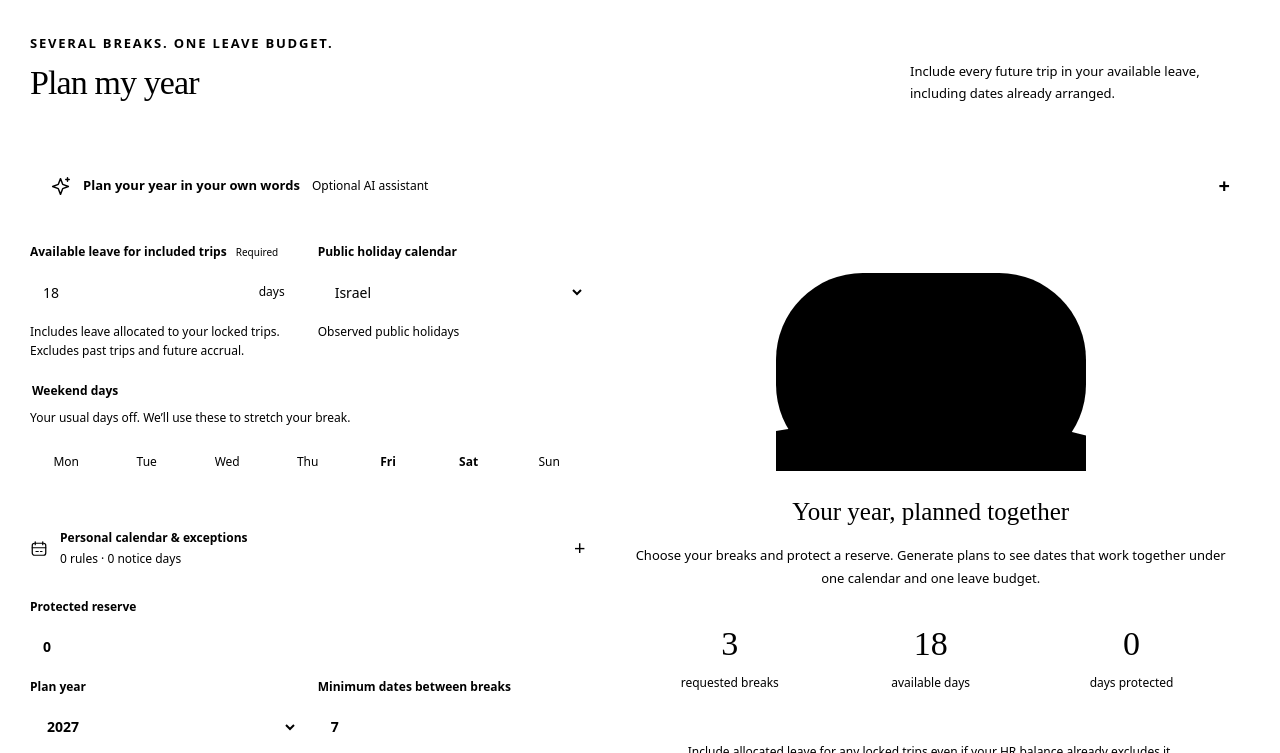
Scenario: typed past dates cannot be kept or converted into a locked trip
Select "2026" in the dropdown labelled "Plan year". click: (164, 727)
box: [30, 704, 298, 750]
(page scrolled)
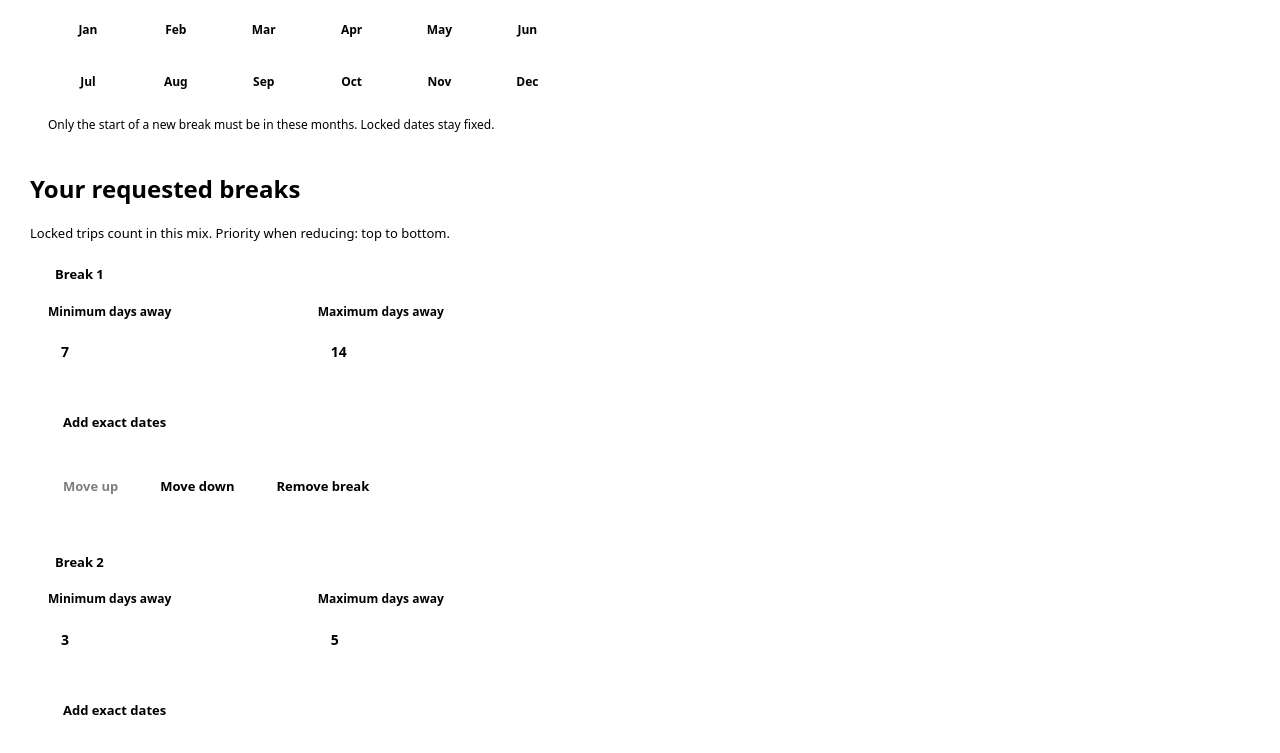
Click the 1st button "Add exact dates". click: (115, 423)
box: [48, 401, 181, 445]
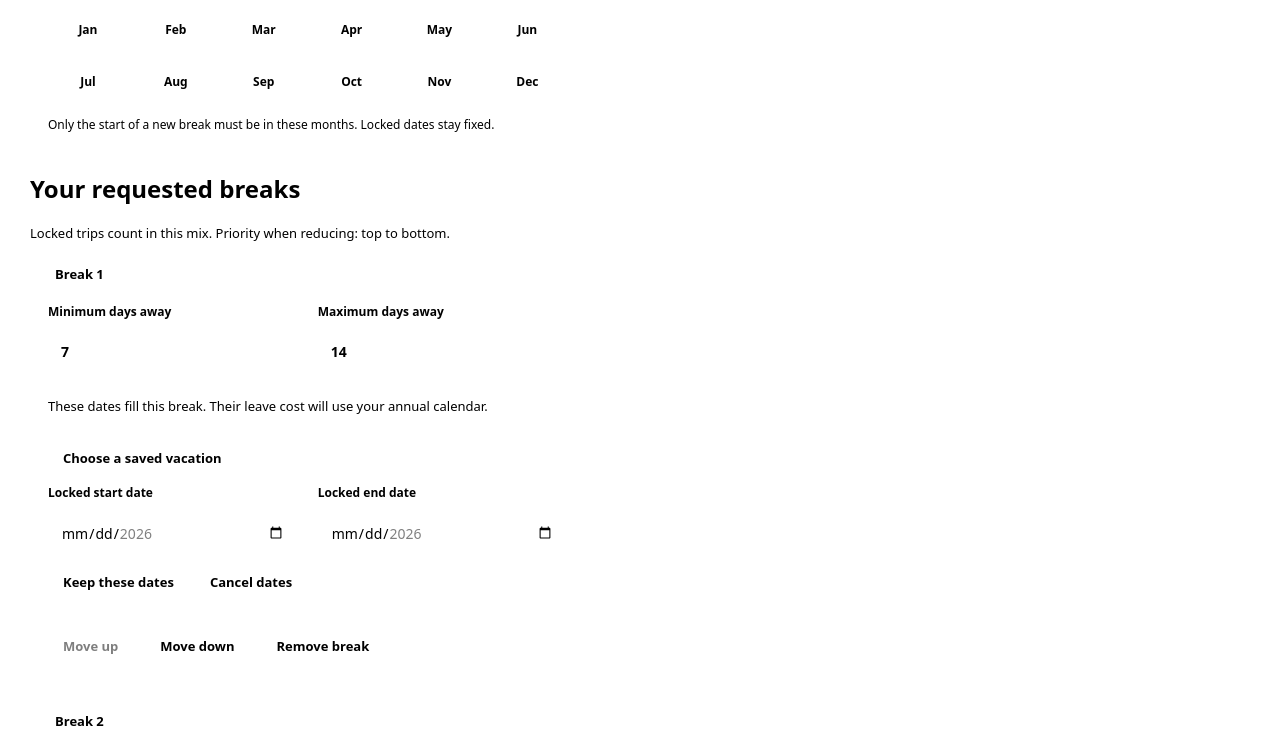
Type "2026-09-26" into the date field labelled "Locked start date". click: (173, 534)
box: [48, 510, 298, 556]
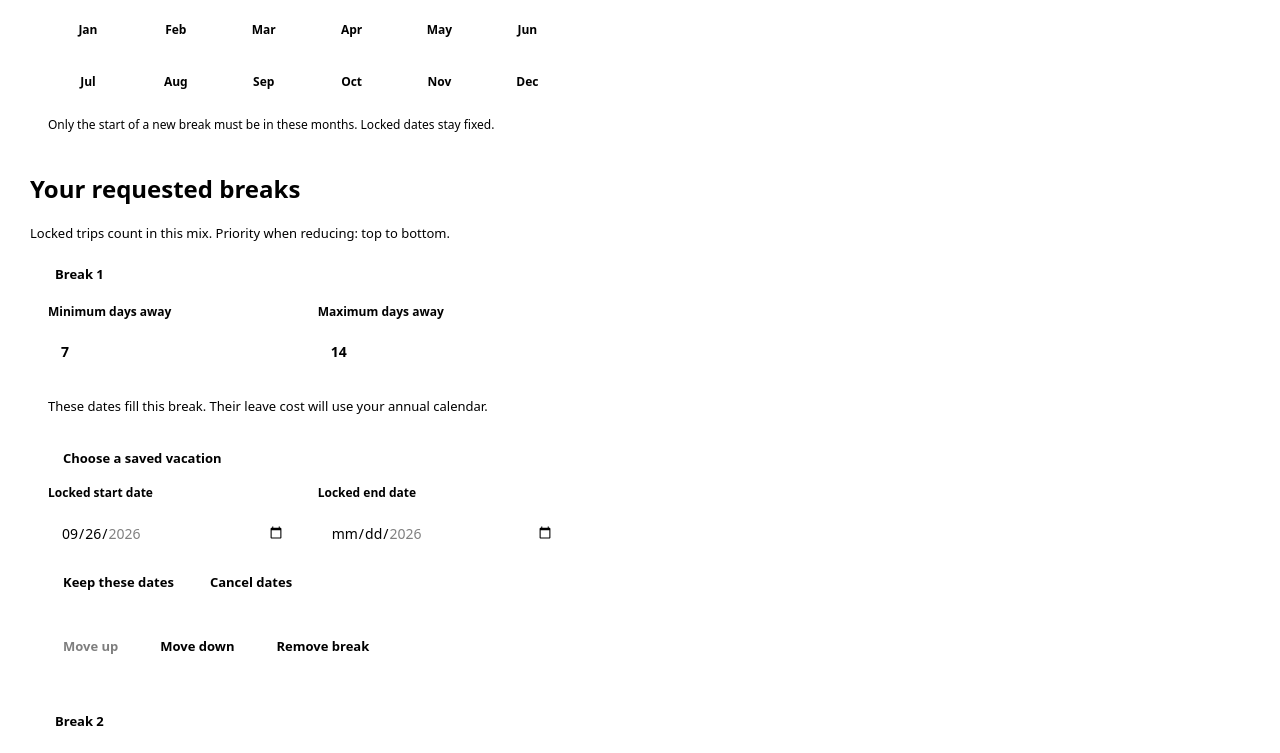
Type "2026-10-03" into the date field labelled "Locked end date". click: (443, 534)
box: [318, 510, 567, 556]
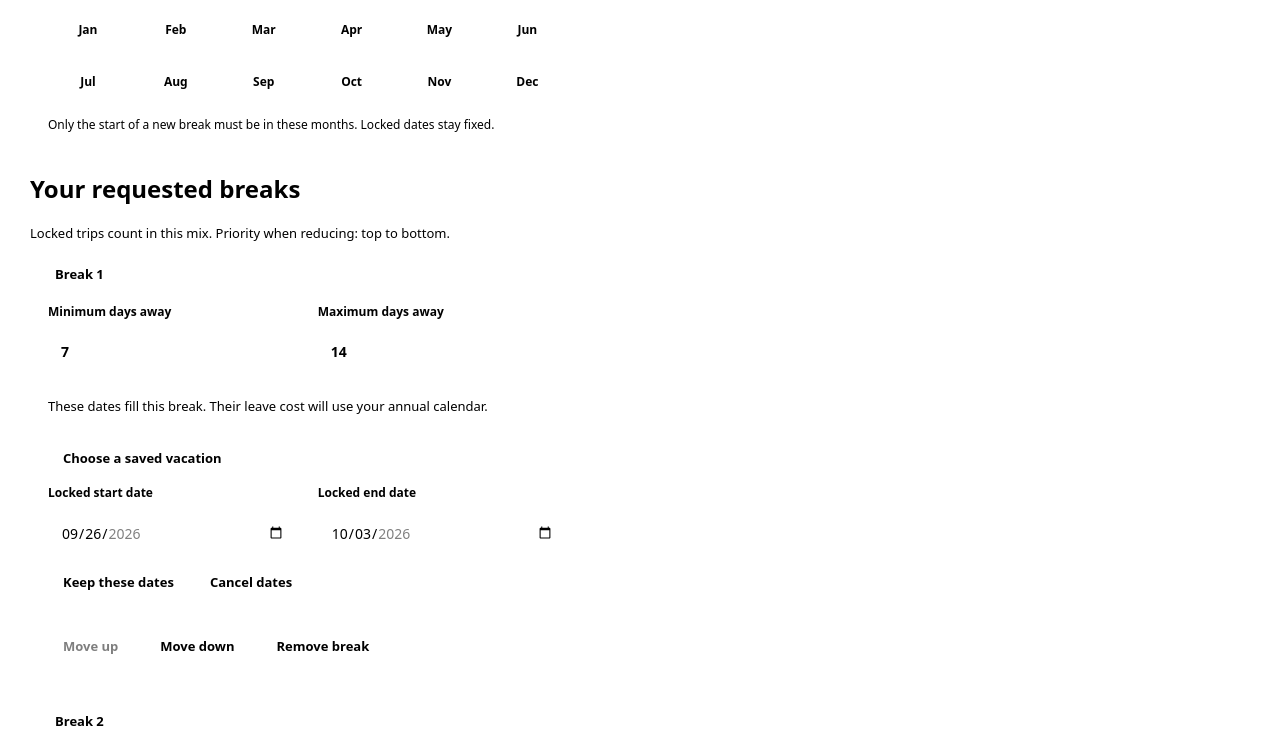
Click the button "Keep these dates". click: (118, 582)
box: [48, 560, 189, 604]
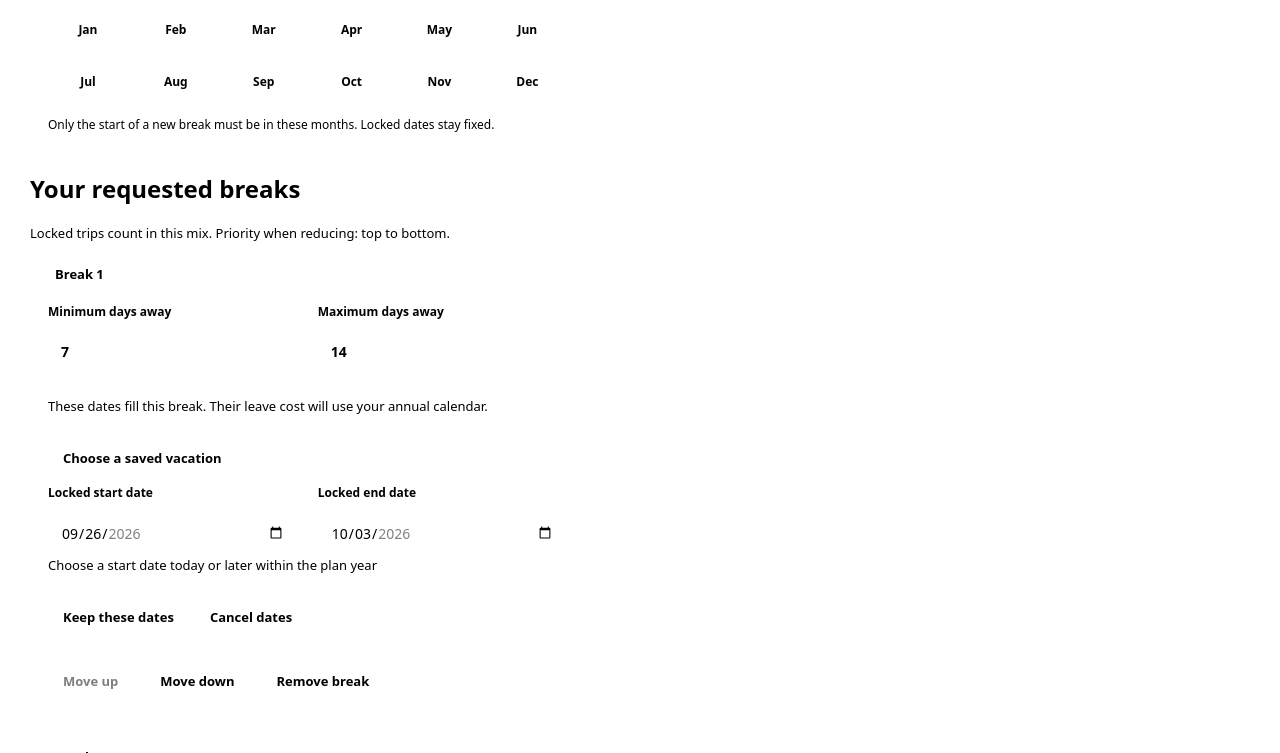
Now the message shows "today or later", box [48, 556, 377, 574]
